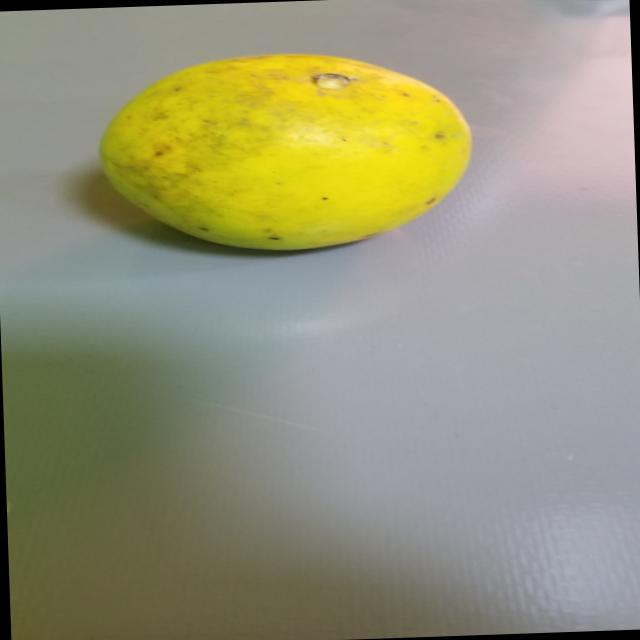Ripe orange: (92, 41, 507, 260)
